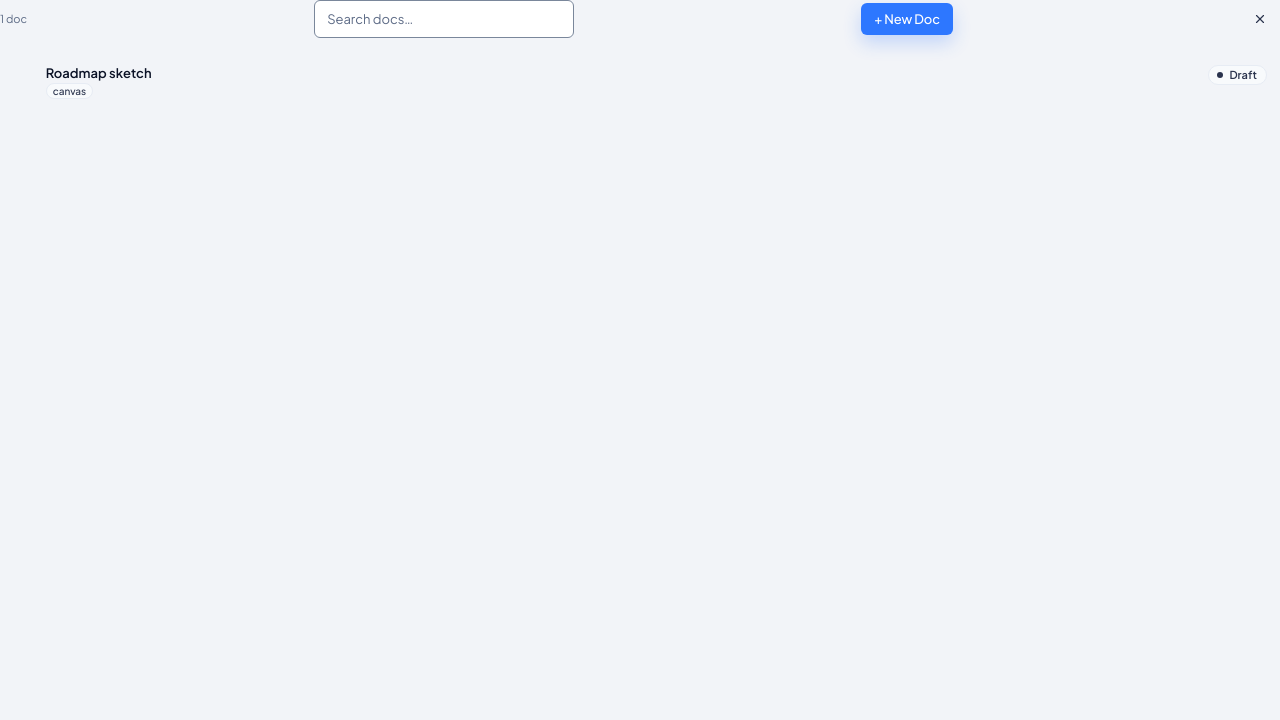
Test case: Canvas connections (Codex #173 P2 — canvas docs are still Documents) › renders the connections section for a canvas document
Click the text "Roadmap sketch".
click(99, 73)  # box [46,65,152,81]
(page scrolled)
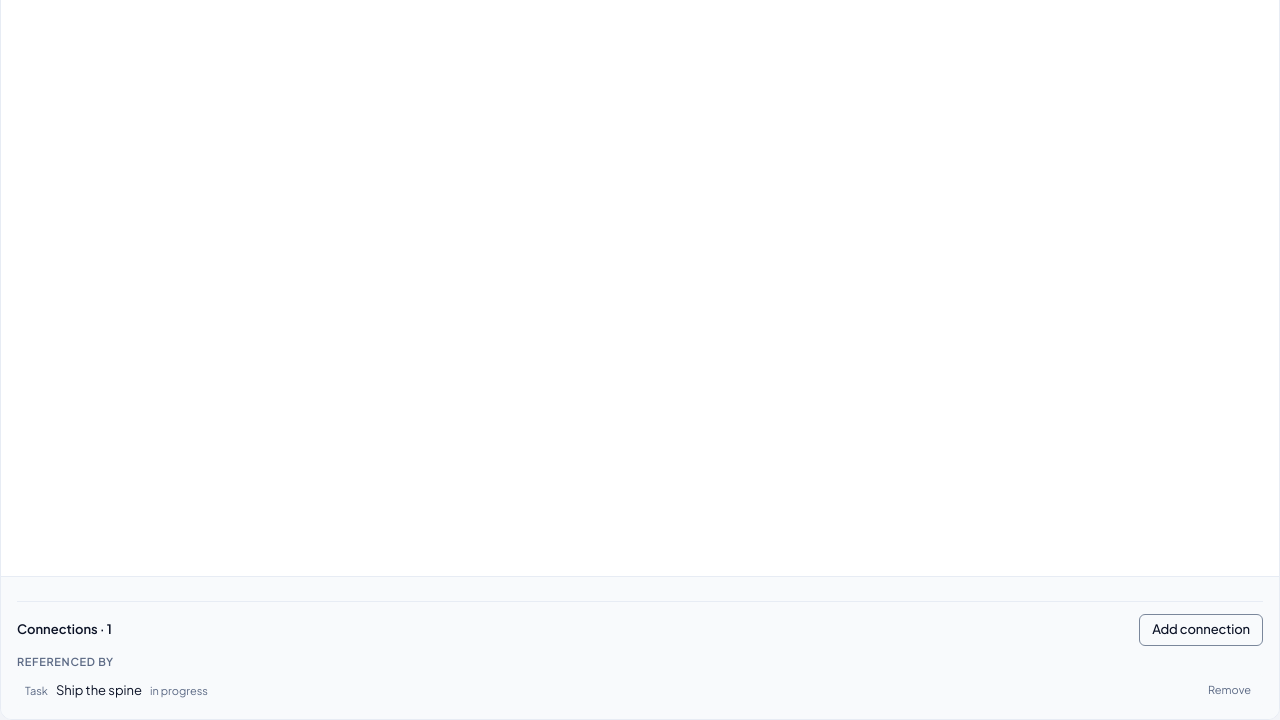
Check: the text "Referenced by" is shown, box [17,655,114,668]
Check: the text "Ship the spine" is shown, box [56,681,142,700]
